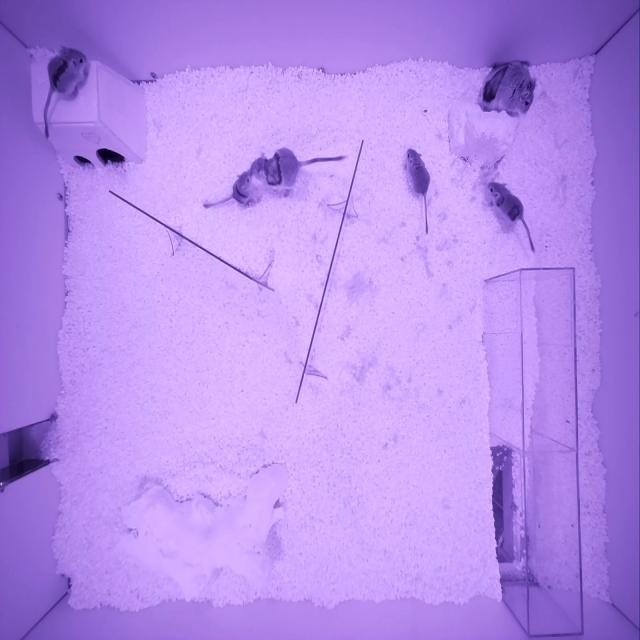adult_back: (477, 65, 537, 115)
adult_front: (250, 147, 299, 187)
pup_fluffy: (406, 148, 430, 194)
pup_h_stripe: (232, 170, 252, 205)
pup_spotted: (487, 182, 524, 225)
pup_v_stripe: (47, 46, 87, 94)
